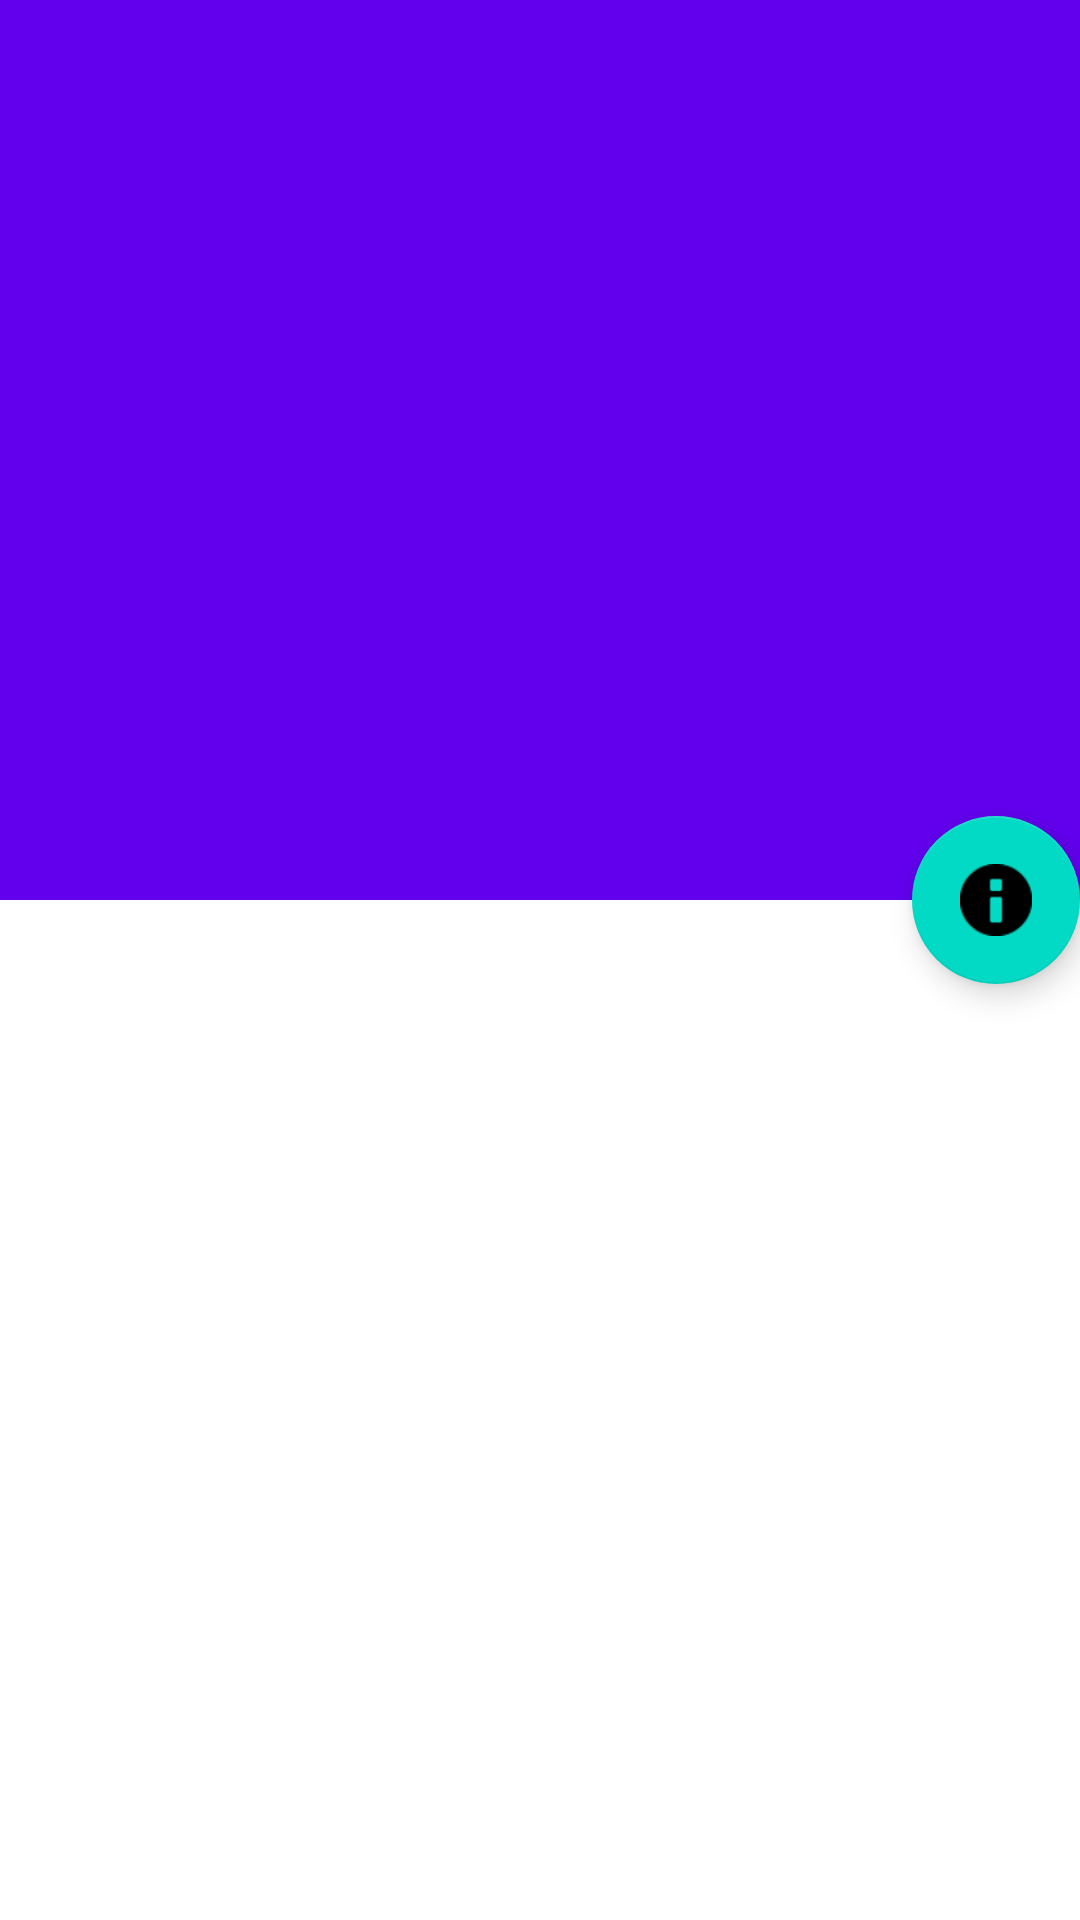

Icon click points for this 1080 x 1920 phone screenshot, format point (x, y):
info: point (996, 900)
